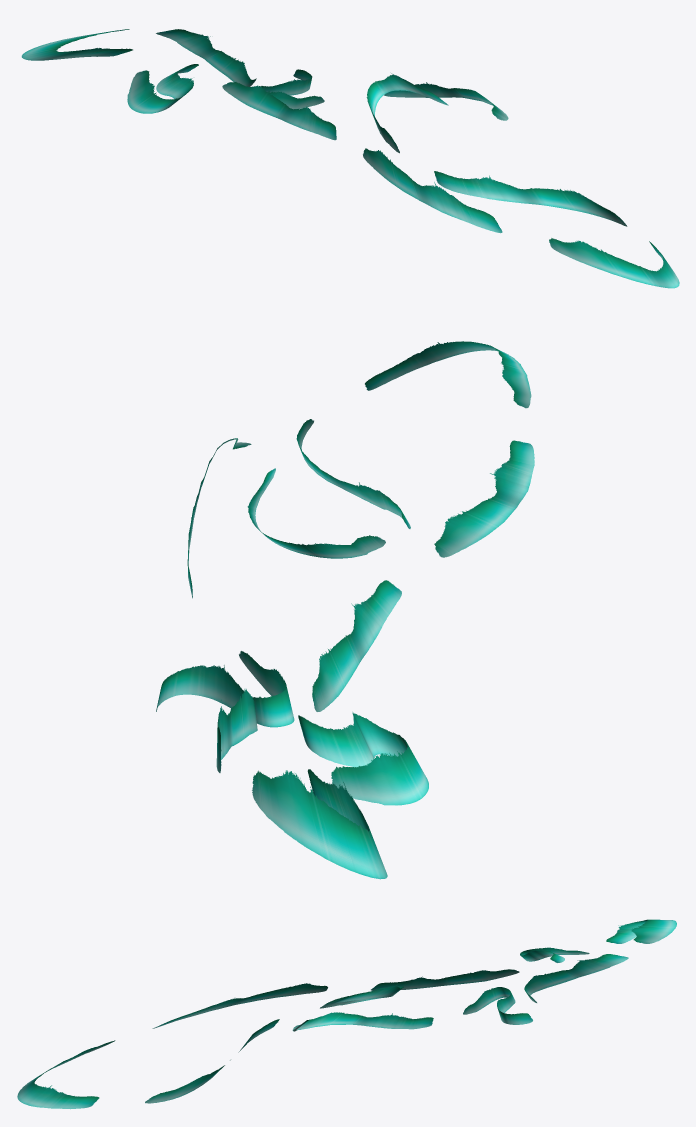
The model's file is auroraflipz2.fbx.
3 renders of one model, top to bottom at view 1: azimuth 30°, elevation 25°; view 2: azimuth 150°, elevation 25°; view 3: azimuth 270°, elevation 25°, orthographic. The views are drawn at different scales.
Visible parts, largest first — view 1: aurora; view 2: aurora; view 3: aurora.
Boxes of the visible parts, x1,y1,x2,y2 form: aurora: (21,29,679,288); aurora: (156,341,534,879); aurora: (17,919,676,1109).
Size of the model in its own units: 7536 by 2315 by 14226.
Materials: 1 (1 with a texture image).
